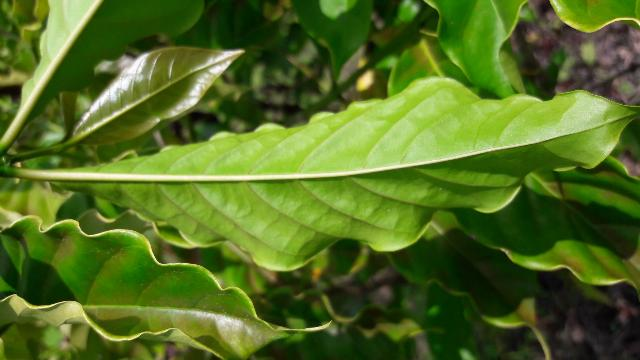healthy: (84, 84, 625, 265)
